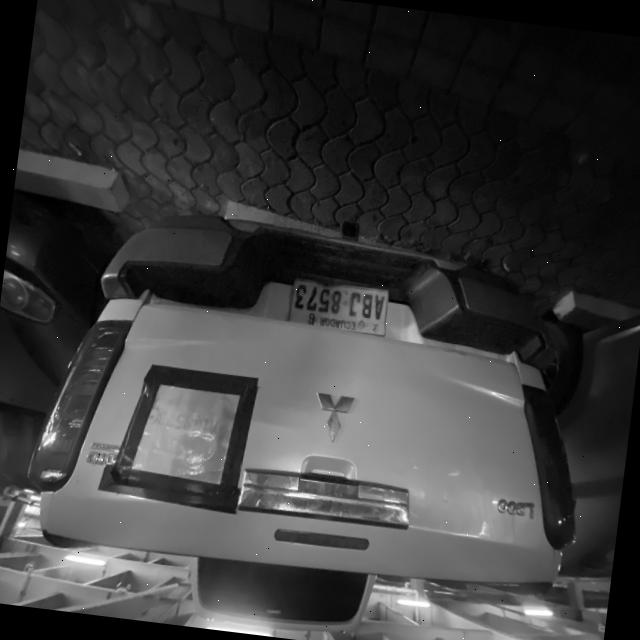Placa: (289, 278, 387, 334)
